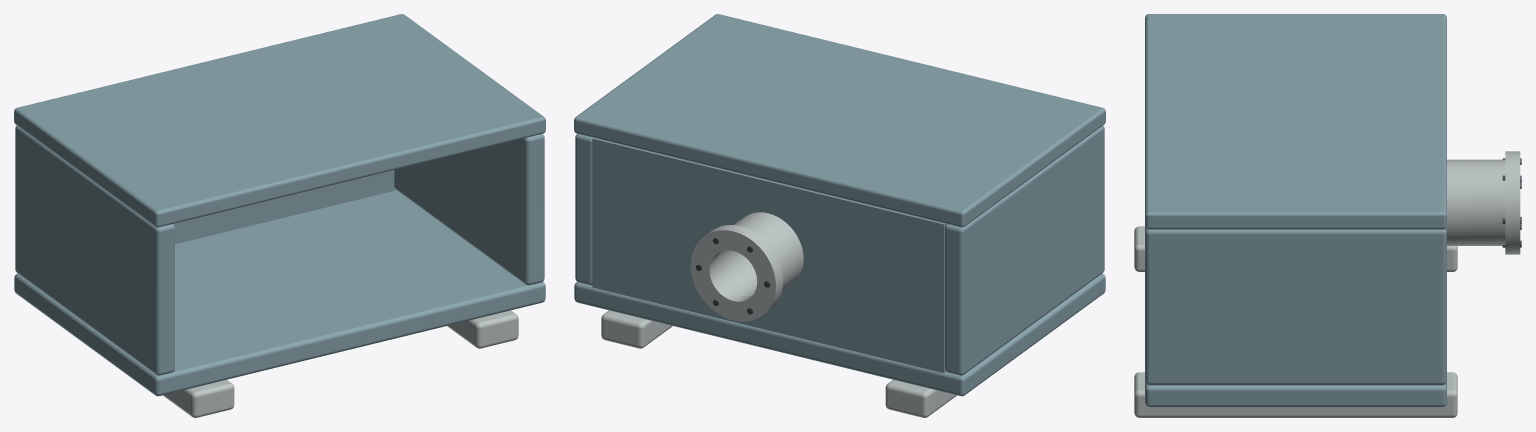
Rendered from abandoned-tidal-model-testing-hall-return-flow-plenum-039d5add__32341.glb.
3 renders of one model, left to right at view 1: azimuth 30°, elevation 25°; view 2: azimuth 150°, elevation 25°; view 3: azimuth 270°, elevation 25°, orthographic. The views are drawn at different scales.
Parts seen in each view (by area): view 1: return-flow-plenum; view 2: return-flow-plenum; view 3: return-flow-plenum.
Part boxes in pixels (bbox=[...]): return-flow-plenum: bbox=[14, 14, 545, 417]; return-flow-plenum: bbox=[574, 14, 1105, 417]; return-flow-plenum: bbox=[1134, 14, 1521, 417].
Bounding box in the file's own units: 1.1 × 0.57 × 0.898.
